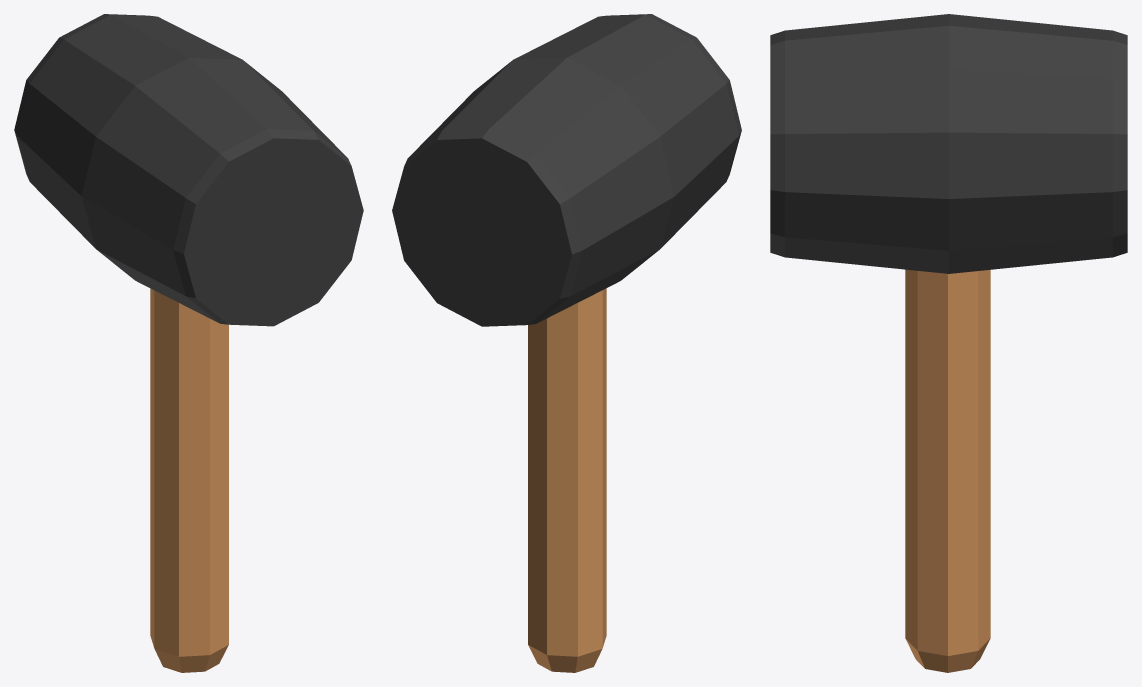
Rendered from Mallet.fbx.
3 renders of one model, left to right at view 1: azimuth 30°, elevation 25°; view 2: azimuth 150°, elevation 25°; view 3: azimuth 270°, elevation 25°, orthographic. The views are drawn at different scales.
Parts seen in each view (by area): view 1: Mallet; view 2: Mallet; view 3: Mallet.
Part boxes in pixels (x1,y1,x2,y2): Mallet: (14,14,363,672); Mallet: (392,14,741,672); Mallet: (770,14,1127,672).
Size of the model in its own units: 20.72 by 55.5 by 28.34.
